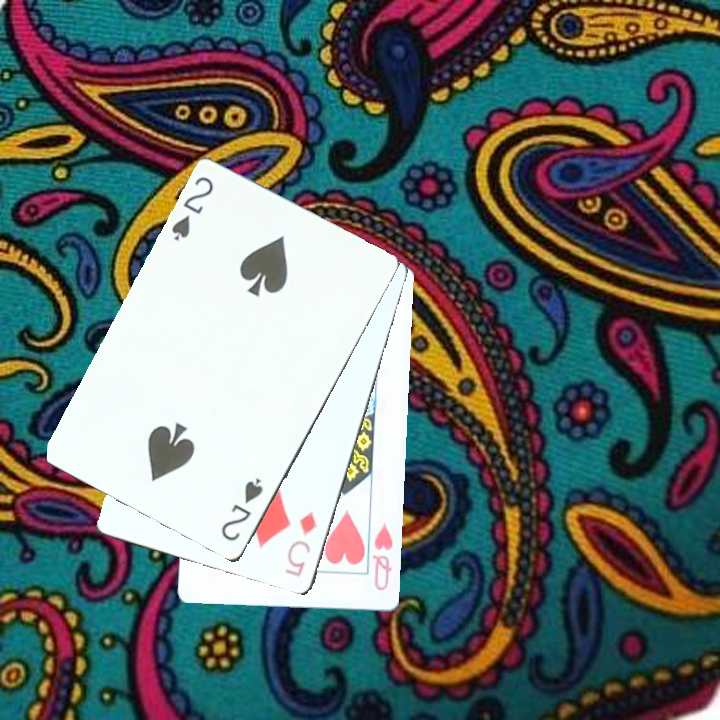2s: (167, 172, 216, 243), (217, 474, 266, 544)
5d: (281, 507, 320, 580)
Qh: (356, 517, 396, 594)
